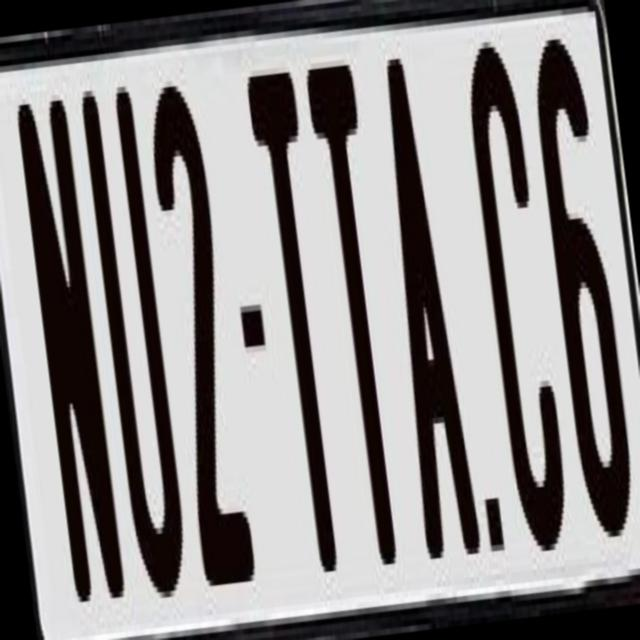2: (139, 65, 263, 598)
6: (525, 24, 640, 528)
A: (363, 49, 484, 554)
C: (456, 27, 580, 570)
N: (10, 82, 124, 608)
T: (242, 60, 354, 598), (304, 52, 416, 578)
U: (75, 68, 195, 594)
